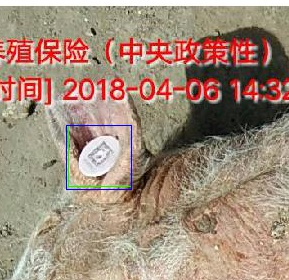text: (68, 125, 131, 186)
